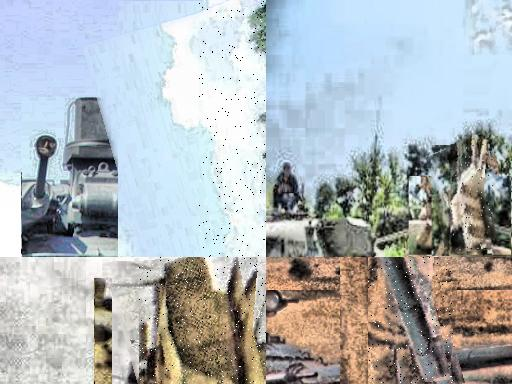tanks: (141, 258, 267, 384), (385, 258, 455, 384), (452, 137, 494, 257), (267, 221, 375, 258), (378, 224, 436, 246), (381, 253, 385, 258)
